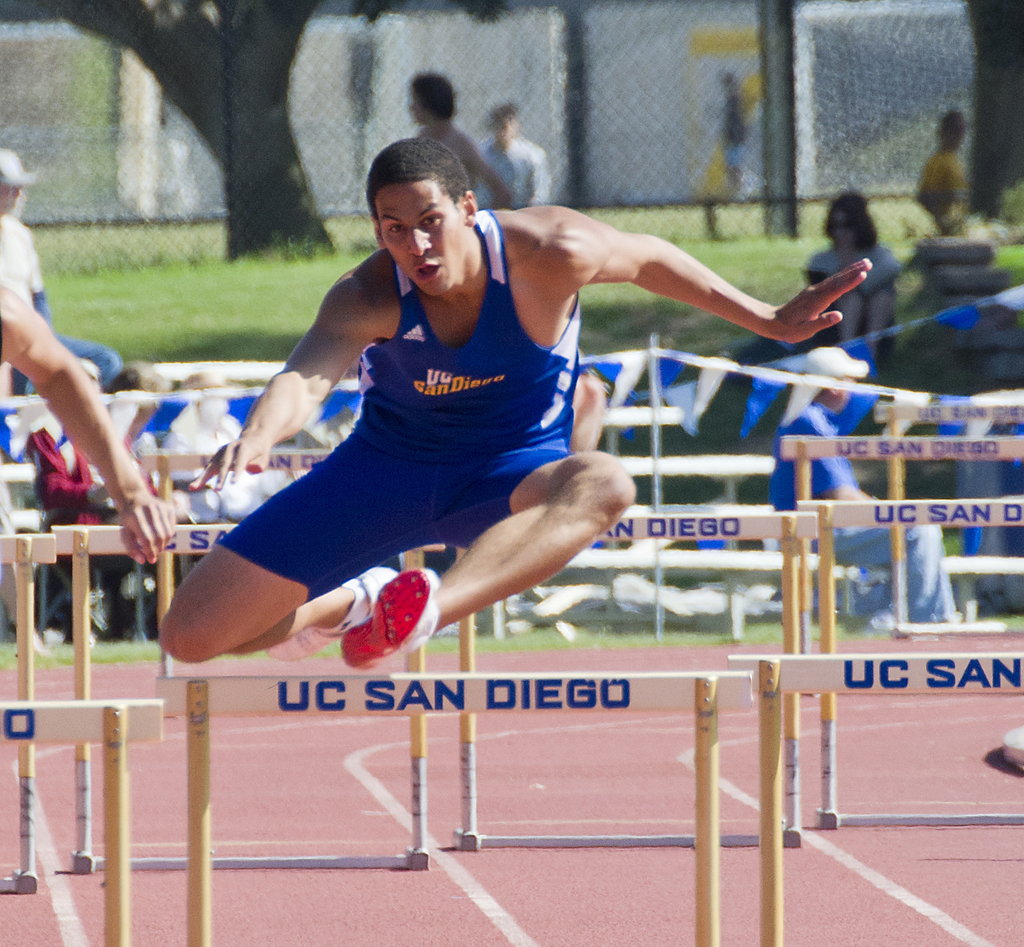Human_hand: (755, 252, 890, 345), (189, 434, 273, 492), (121, 494, 179, 567)
